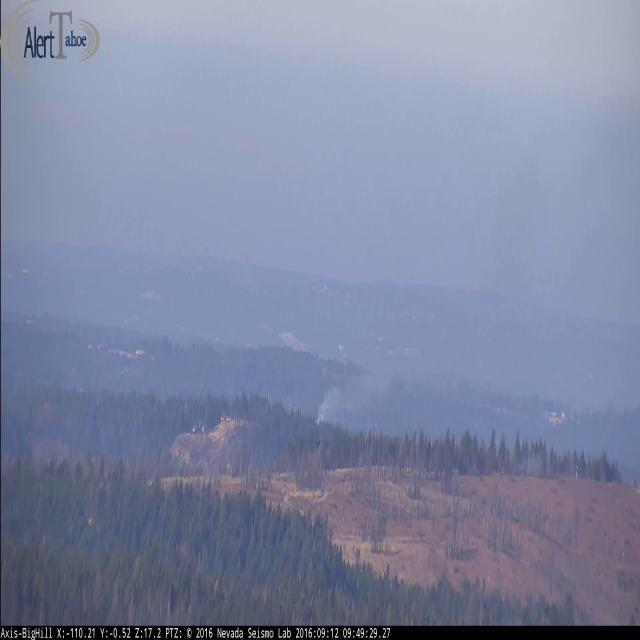smoke: (311, 104, 630, 428)
